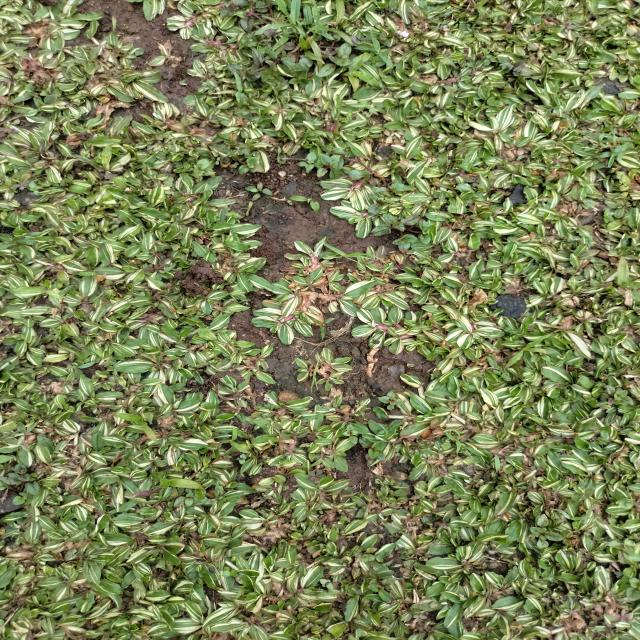bayi: (236, 453, 248, 465), (287, 199, 293, 206)
buah daun: (496, 55, 534, 75), (557, 18, 581, 34)
rambat atas: (278, 0, 334, 50), (588, 128, 636, 170), (354, 33, 396, 66), (324, 243, 386, 263), (229, 426, 253, 455), (513, 342, 544, 361), (232, 70, 246, 102), (444, 432, 464, 454), (495, 454, 502, 474)
rambat bawah: (110, 411, 160, 445), (289, 193, 320, 214), (158, 477, 206, 490)
ungu tunggang: (316, 41, 355, 78), (222, 1, 274, 27), (4, 463, 41, 496), (371, 214, 423, 237), (368, 182, 404, 215), (300, 151, 341, 179), (528, 526, 566, 550), (357, 435, 389, 463), (368, 577, 400, 604), (228, 150, 258, 175), (378, 390, 406, 410), (341, 422, 359, 445), (456, 381, 476, 394)
